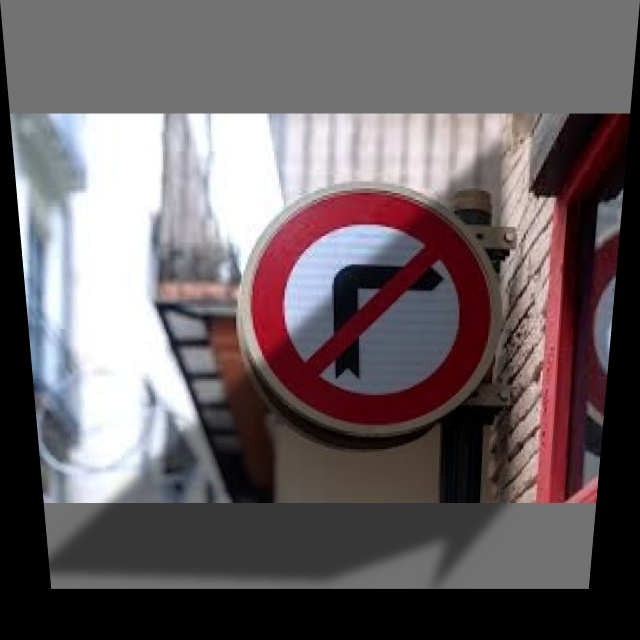Right_Turn_Prohibited: (240, 184, 502, 447)
